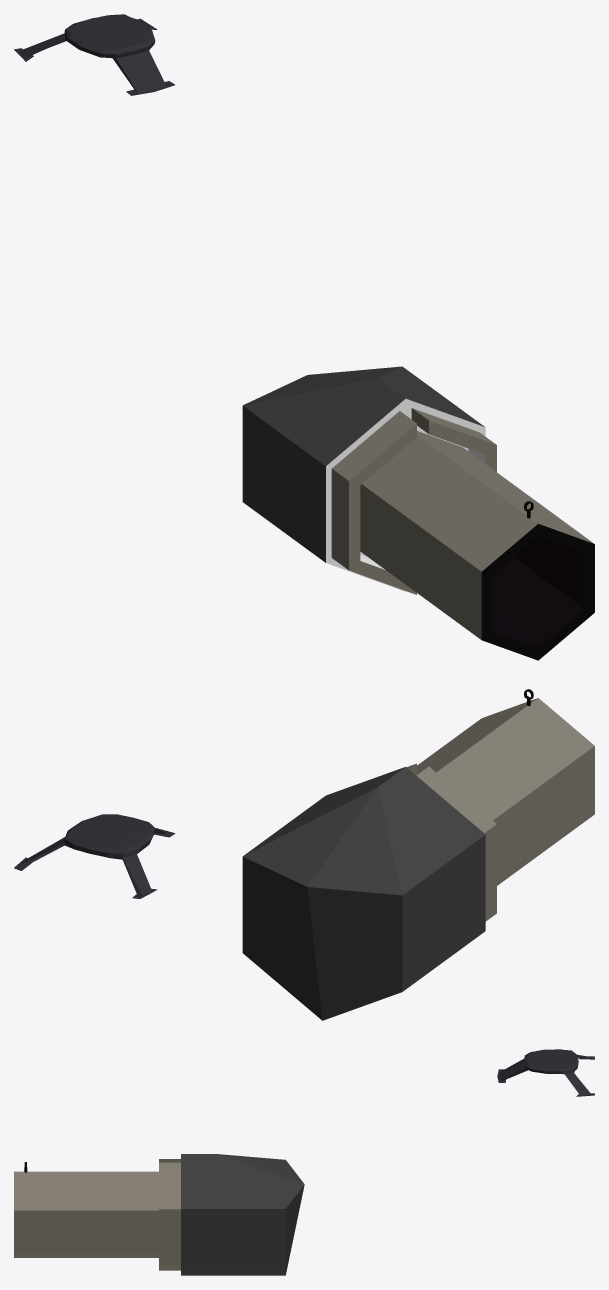
File: canon.glb
The picture shows the model from 3 angles, top to bottom: view 1: azimuth 30°, elevation 25°; view 2: azimuth 150°, elevation 25°; view 3: azimuth 270°, elevation 25°; orthographic projection. The views are drawn at different scales.
Visible parts, largest first — view 1: Canon_canon, Canon_stand; view 2: Canon_canon, Canon_stand; view 3: Canon_canon, Canon_stand.
Part boxes in pixels (<box>): Canon_canon: <box>242,366,594,660</box>; Canon_stand: <box>14,14,174,95</box>; Canon_canon: <box>242,689,594,1020</box>; Canon_stand: <box>14,814,175,898</box>; Canon_canon: <box>14,1154,304,1275</box>; Canon_stand: <box>497,1049,594,1096</box>.
Bounding box in the file's own units: 0.1766 × 0.3631 × 0.8829.
Materials: 1 (1 with a texture image).
